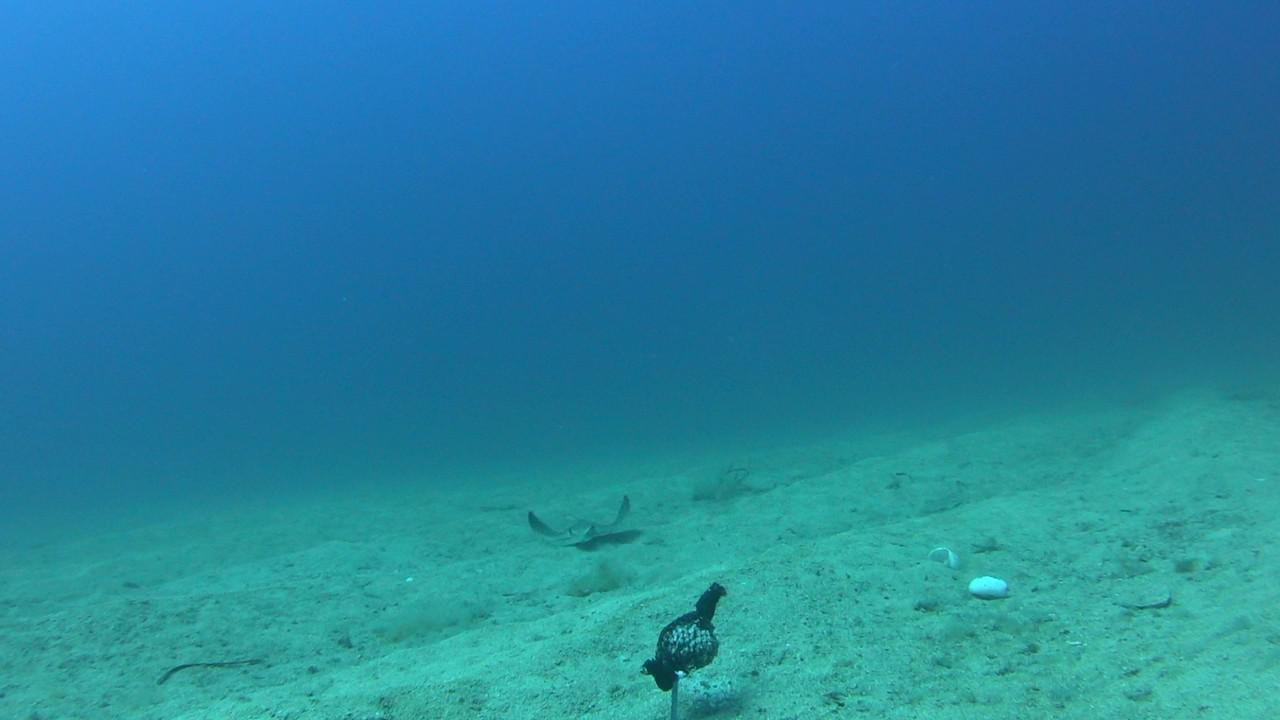myliobatis: (505, 481, 659, 552)
